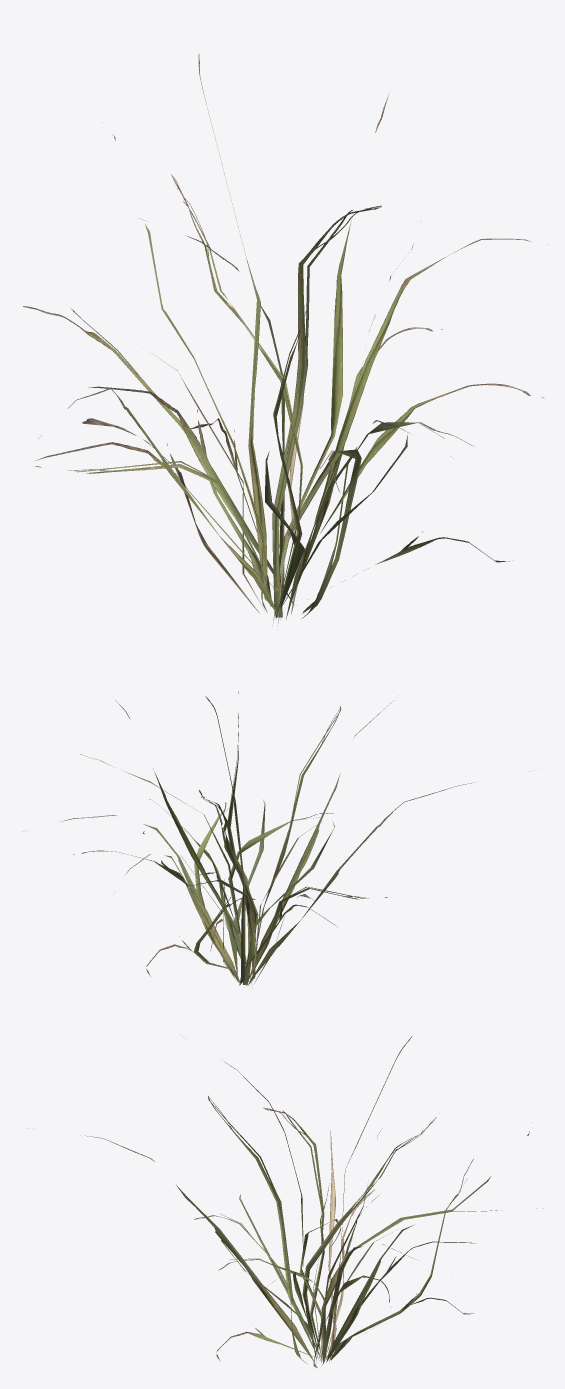
File: tallgrass2.glb
The picture shows the model from 3 angles, top to bottom: view 1: azimuth 30°, elevation 25°; view 2: azimuth 150°, elevation 25°; view 3: azimuth 270°, elevation 25°; orthographic projection. The views are drawn at different scales.
Parts seen in each view (by area): view 1: lod1; view 2: lod1; view 3: lod1.
Boxes of the visible parts, bbox=[...] form: lod1: bbox=[23, 54, 544, 630]; lod1: bbox=[22, 691, 530, 985]; lod1: bbox=[27, 1036, 542, 1367].
Size of the model in its own units: 0.6027 by 0.5 by 0.6937.
Materials: 1 (1 with a texture image).
